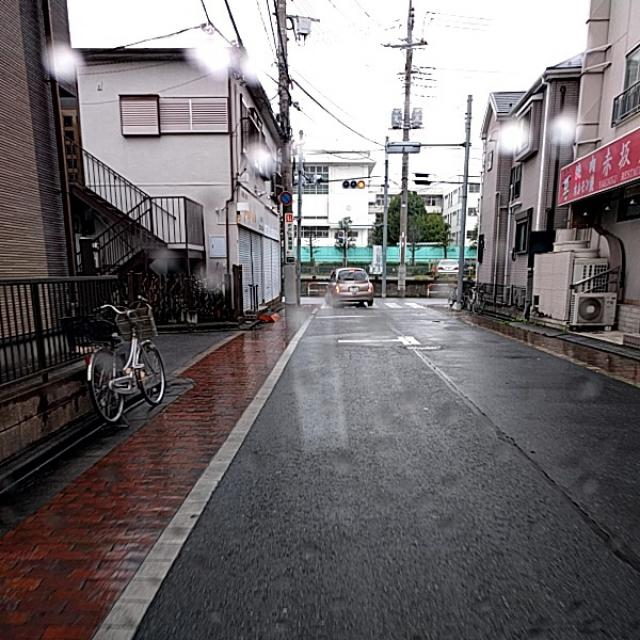pothole: (507, 429, 562, 497)
